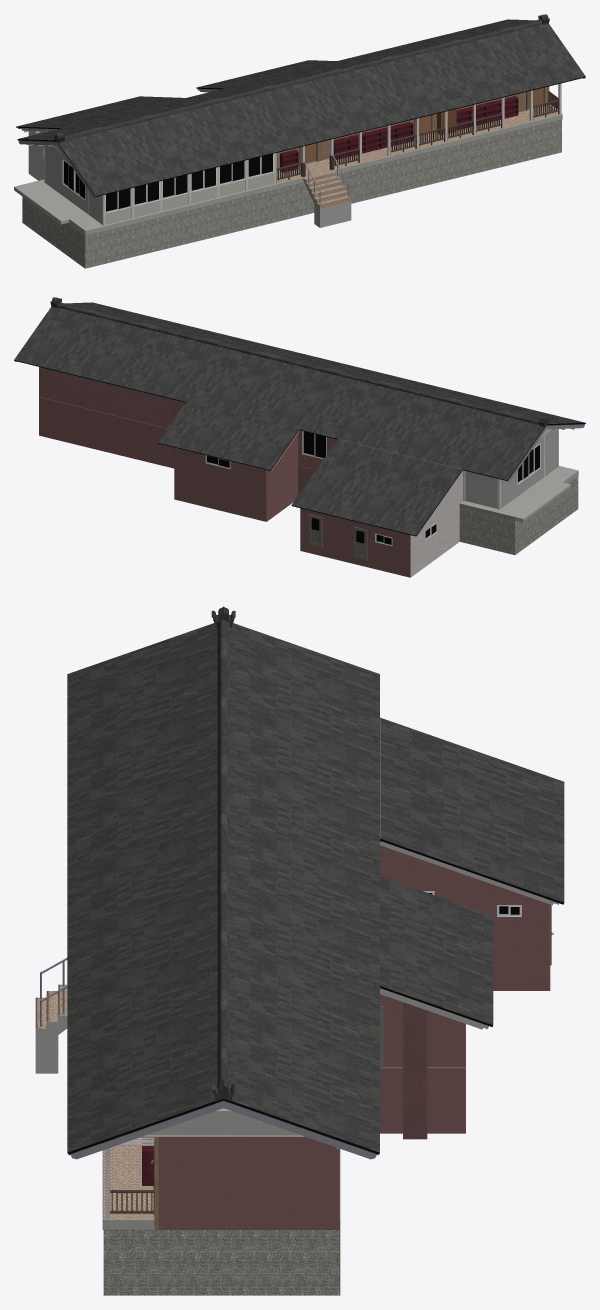
Rendered from MudeungsanTouristHotel.fbx.
3 views of the same model, one above another, from view 1: azimuth 30°, elevation 25°; view 2: azimuth 150°, elevation 25°; view 3: azimuth 270°, elevation 25° (orthographic). The views are drawn at different scales.
Visible parts, largest first — view 1: MudeungsanTouristHotel_Base, MudeungsanTouristHotel_Detail; view 2: MudeungsanTouristHotel_Base, MudeungsanTouristHotel_Detail; view 3: MudeungsanTouristHotel_Base, MudeungsanTouristHotel_Detail.
Part boxes in pixels (box(x1,y1,x2,y2)): MudeungsanTouristHotel_Base: box(14, 19, 585, 268); MudeungsanTouristHotel_Detail: box(24, 14, 561, 225); MudeungsanTouristHotel_Base: box(14, 302, 585, 577); MudeungsanTouristHotel_Detail: box(50, 297, 574, 546); MudeungsanTouristHotel_Base: box(35, 620, 564, 1295); MudeungsanTouristHotel_Detail: box(105, 606, 521, 1219).
Size of the model in its own units: 2743 by 590 by 1255.
